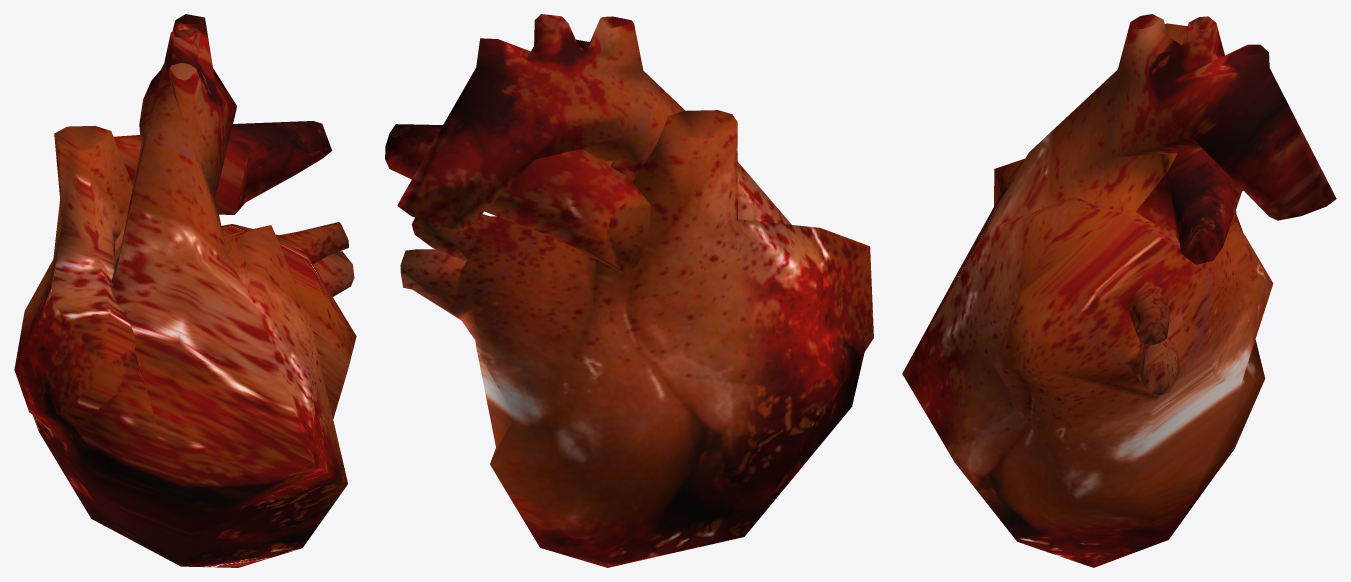
File: gib_heart.fbx
3 views of the same model, side by side, from view 1: azimuth 30°, elevation 25°; view 2: azimuth 150°, elevation 25°; view 3: azimuth 270°, elevation 25° (orthographic). The views are drawn at different scales.
Parts seen in each view (by area): view 1: heart; view 2: heart; view 3: heart.
Part boxes in pixels (bbox=[...]): heart: bbox=[14, 14, 356, 567]; heart: bbox=[385, 14, 873, 567]; heart: bbox=[902, 14, 1336, 567].
Size of the model in its own units: 0.1183 by 0.1668 by 0.1208.
